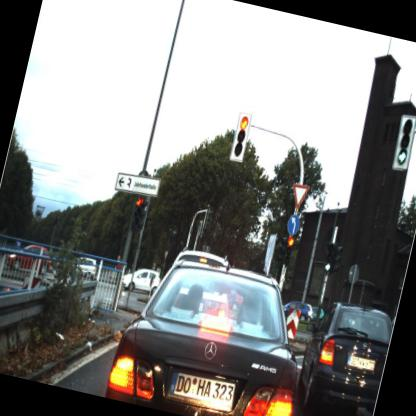mandatory: (282, 211, 304, 240)
other: (287, 180, 312, 214)
